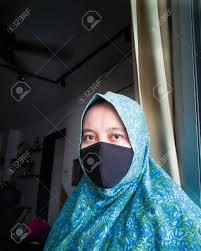Wearing Mask: (70, 82, 158, 205)
